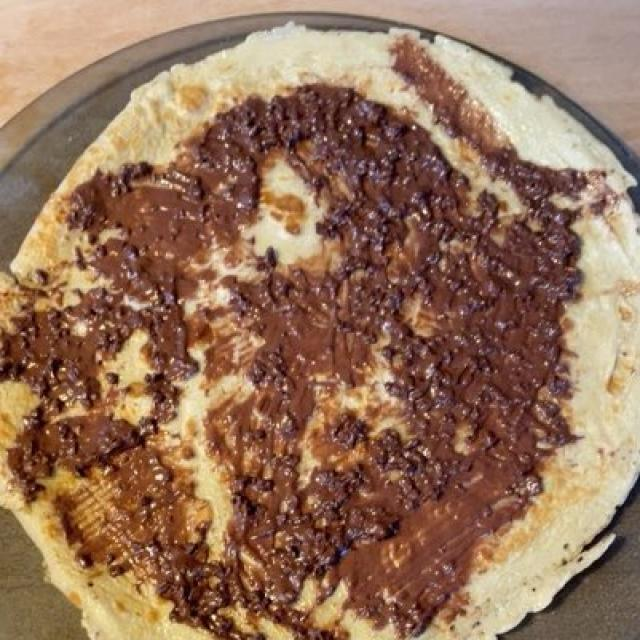crepe: (1, 22, 622, 638)
